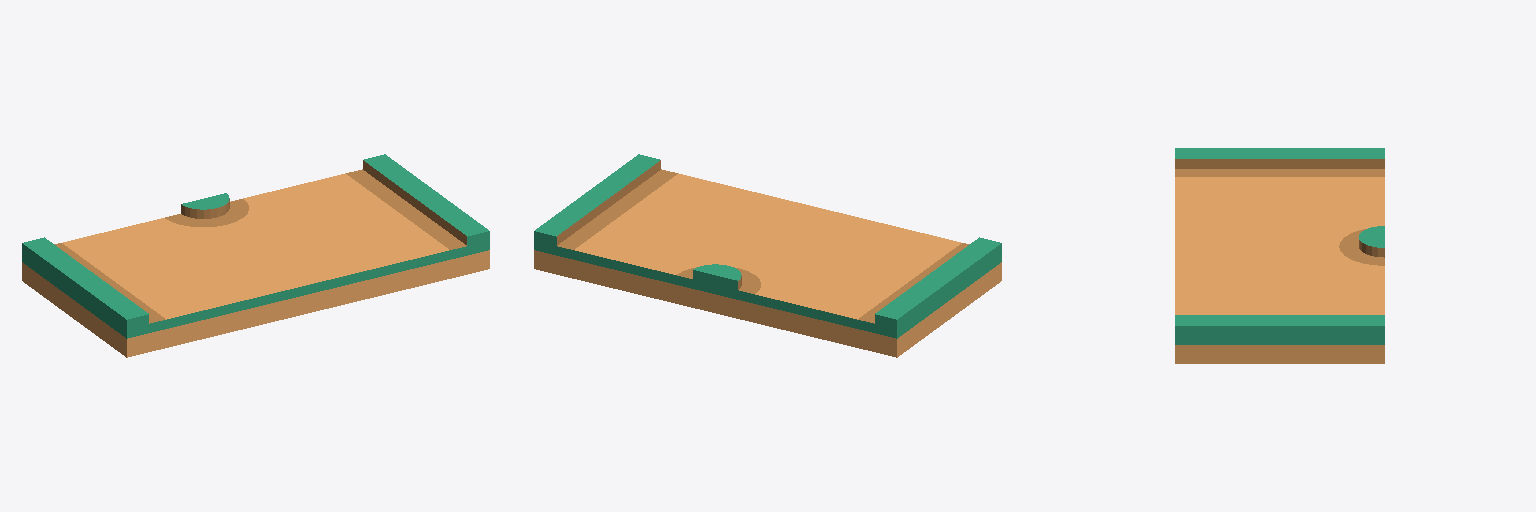
3 views of the same model, side by side, from view 1: azimuth 30°, elevation 25°; view 2: azimuth 150°, elevation 25°; view 3: azimuth 270°, elevation 25° (orthographic).
Parts seen in each view (by area): view 1: tile_wideSplit; view 2: tile_wideSplit; view 3: tile_wideSplit.
Part boxes in pixels (bbox=[...]): tile_wideSplit: bbox=[22, 154, 489, 357]; tile_wideSplit: bbox=[534, 154, 1001, 357]; tile_wideSplit: bbox=[1175, 148, 1384, 363].
Bounding box in the file's own units: 1 × 0.1 × 0.5.